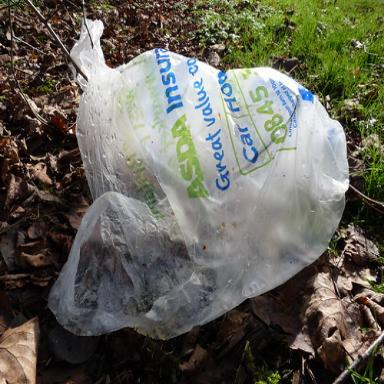plastic bag: (47, 14, 349, 339)
